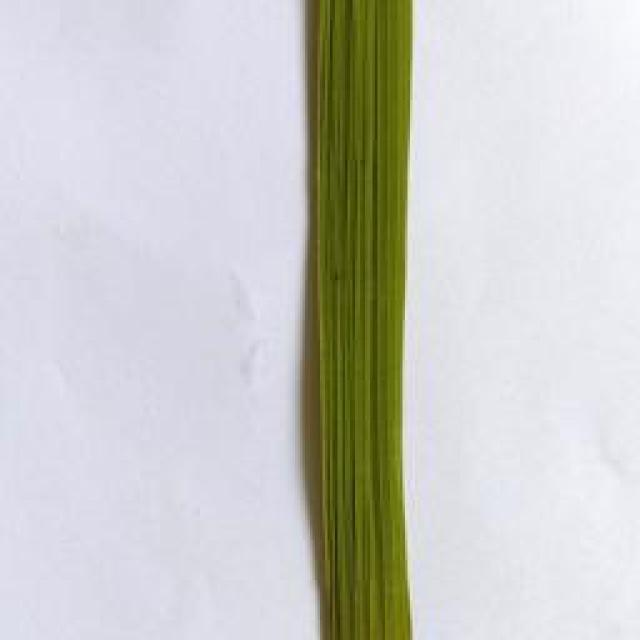Healthy-Plant: (303, 0, 410, 640)
